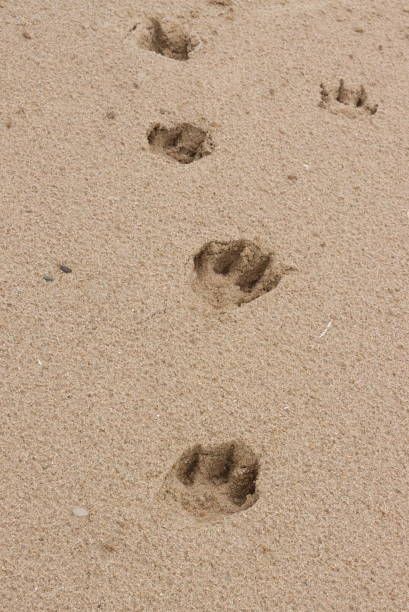animal_footprint: (162, 441, 259, 518), (192, 239, 292, 307), (147, 123, 213, 163), (139, 17, 198, 60), (320, 79, 377, 116)
